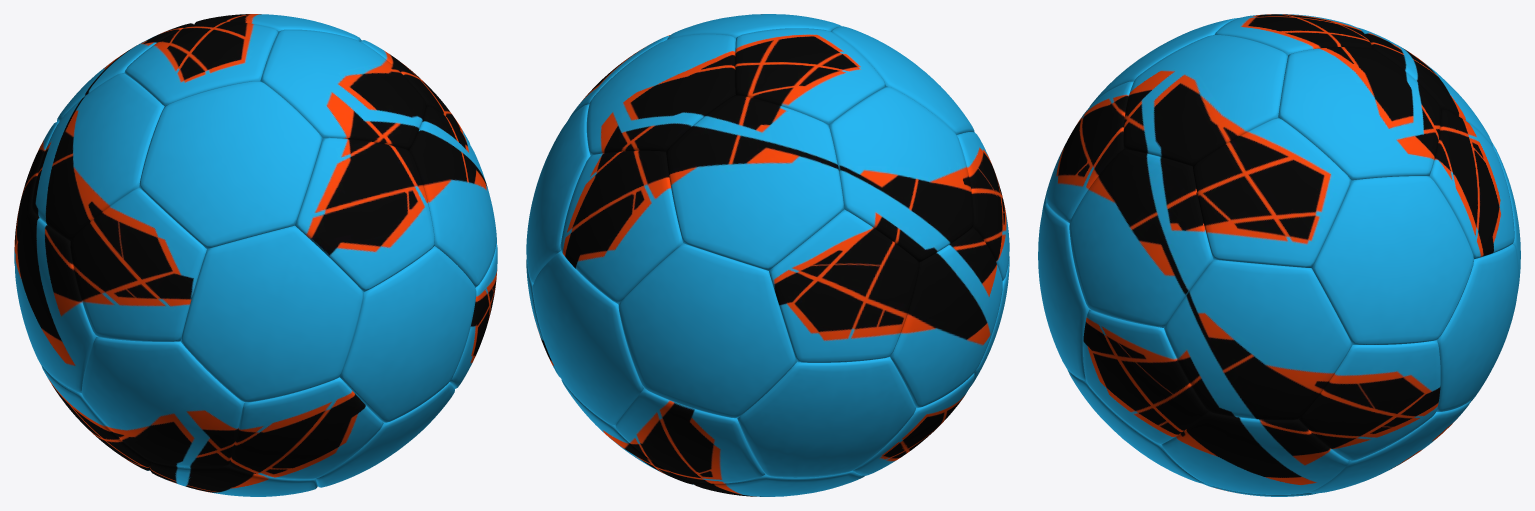
Rendered from BlueBall.glb.
The picture shows the model from 3 angles, left to right: view 1: azimuth 30°, elevation 25°; view 2: azimuth 150°, elevation 25°; view 3: azimuth 270°, elevation 25°; orthographic projection.
Parts seen in each view (by area): view 1: soccer_ball; view 2: soccer_ball; view 3: soccer_ball.
Boxes of the visible parts, bbox=[...] form: soccer_ball: bbox=[14, 14, 497, 496]; soccer_ball: bbox=[526, 14, 1009, 496]; soccer_ball: bbox=[1038, 14, 1520, 496].
Bounding box in the file's own units: 0.0913 × 0.0914 × 0.0914.
Materials: 1 (1 with a texture image).
